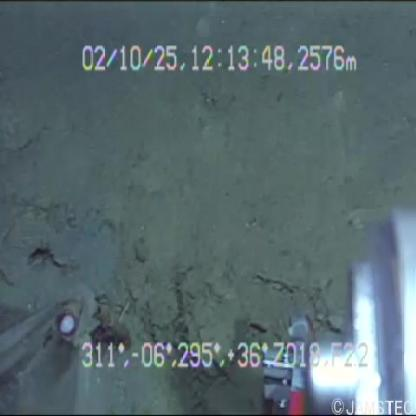Rov: (250, 185, 414, 416)
Rác: (1, 268, 119, 416)
